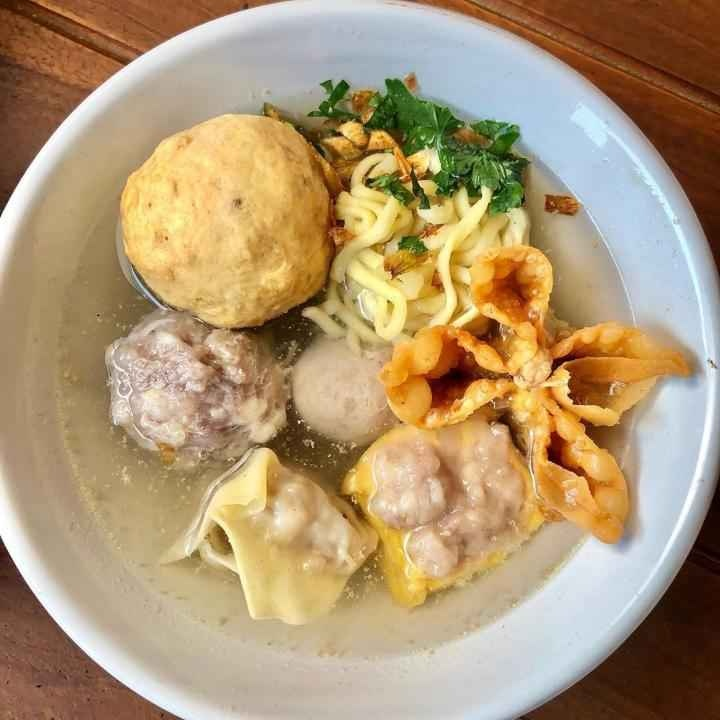bakso_malang: (59, 75, 695, 628)
